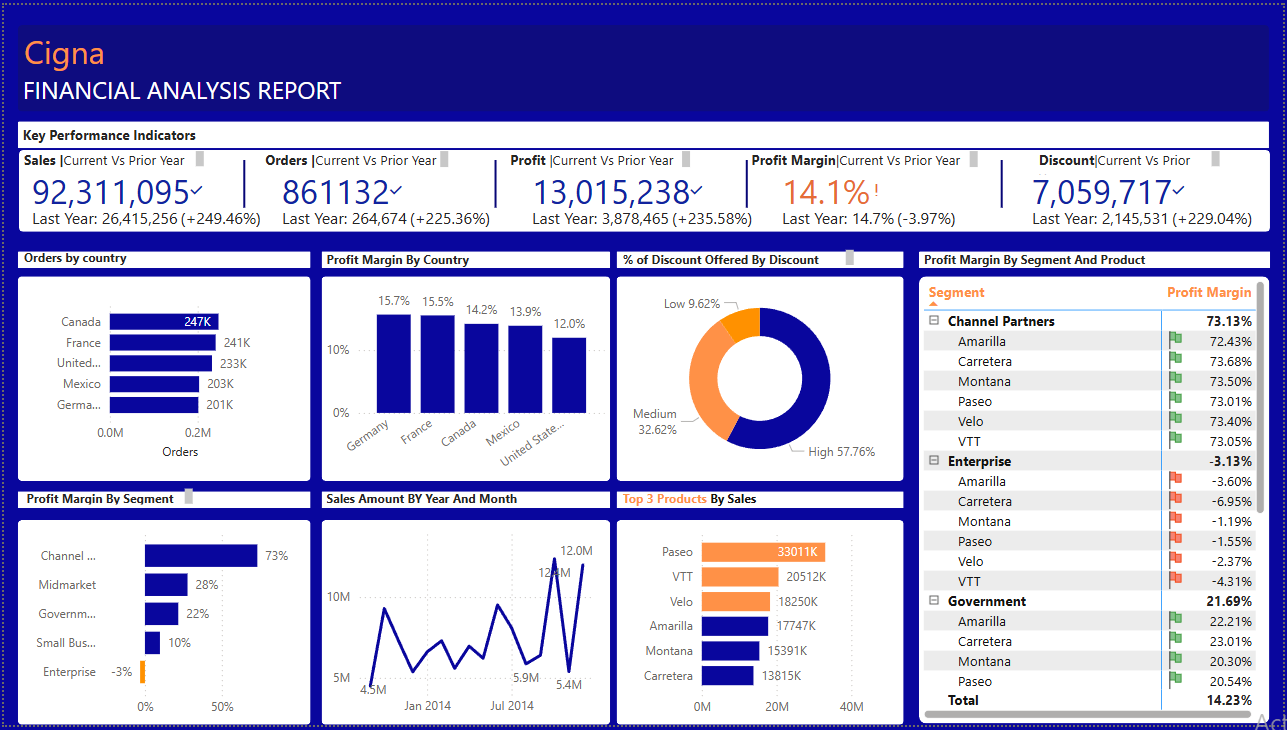

The page's visual inventory and layout, read from the dashboard file:
{"tool":"powerbi","page":{"name":"Page 1","canvas":[1280,720],"ordinal":0},"visuals":[{"type":"shape","box":[14.2,19.9,1251.6,86.8],"z":0},{"type":"shape","box":[14.2,116.6,1251.6,27],"z":1000},{"type":"shape","box":[14.7,145.5,1251,81.9],"z":2000},{"type":"shape","box":[14.2,514.8,293,204.8],"z":3000},{"type":"shape","box":[14.2,271.6,293,204.8],"z":4000},{"type":"shape","box":[317.2,514.8,288.7,204.8],"z":5000},{"type":"shape","box":[613,514.8,287.3,204.8],"z":6000},{"type":"shape","box":[317.2,271.6,288.7,204.8],"z":7000},{"type":"shape","box":[613,271.6,287.3,204.8],"z":8000},{"type":"shape","box":[14.2,246,293,17.1],"z":9000},{"type":"shape","box":[317.2,246,288.7,17.1],"z":10000},{"type":"shape","box":[613,246,287.3,17.1],"z":11000},{"type":"shape","box":[14.2,486.4,293,17.1],"z":12000},{"type":"shape","box":[317.2,486.4,288.7,17.1],"z":13000},{"type":"shape","box":[613,486.4,287.3,17.1],"z":14000},{"type":"shape","box":[914.5,246,351.3,17.1],"z":15000},{"type":"textbox","box":[14.7,19.6,349.7,53.8],"z":16000},{"type":"textbox","box":[14.2,64,362.7,59.7],"z":17000},{"type":"textbox","box":[14.2,116.6,349.9,29.9],"z":18000},{"type":"kpi","fields":{"Indicator":["Analysis.Sales Amount"],"TrendLine":["Date Table.Year"],"Goal":["Analysis.Sales Amount LY"]},"box":[14.7,168.8,250.7,55],"z":19000},{"type":"textbox","box":[14.7,141.8,189.5,25.7],"z":20000},{"type":"kpi","fields":{"Indicator":["Analysis.Orders"],"TrendLine":["Date Table.Year"],"Goal":["Analysis.Orders LY"]},"box":[264.7,168.8,250.7,55],"z":21000},{"type":"kpi","fields":{"TrendLine":["Date Table.Year"],"Indicator":["Analysis.Profit"],"Goal":["Analysis.Profit LY"]},"box":[514.8,168.8,250.7,55],"z":22000},{"type":"kpi","fields":{"TrendLine":["Date Table.Year"],"Indicator":["Analysis.Profit Margin"],"Goal":["Analysis.Profit Margin LY"]},"box":[764.9,168.8,250.7,55],"z":23000},{"type":"kpi","fields":{"TrendLine":["Date Table.Year"],"Indicator":["Analysis.Discount Offered"],"Goal":["Analysis.Discount Offered LY"]},"box":[1015,168.8,250.7,55],"z":24000},{"type":"textbox","box":[255.9,141.8,193.2,26.9],"z":25000},{"type":"textbox","box":[500.7,141.8,189.5,26.9],"z":26000},{"type":"textbox","box":[742,141.8,236,26.9],"z":27000},{"type":"textbox","box":[1029.6,141.8,190.8,33],"z":28000},{"type":"barChart","fields":{"Y":["Analysis.Orders"],"Category":["Financials.Country"]},"box":[34.6,287.1,230.8,171.7],"z":29000},{"type":"columnChart","fields":{"Y":["Analysis.Profit Margin"],"Category":["Financials.Country"]},"box":[317.4,271.2,288.6,204.9],"z":30000},{"type":"donutChart","fields":{"Category":["Financials.Discount Band"],"Y":["Analysis.Discount Offered"]},"box":[617.5,271.2,277,204.9],"z":31000},{"type":"barChart","fields":{"Category":["Financials.Segment"],"Y":["Analysis.Profit Margin"]},"box":[14.4,515.1,292.9,204.9],"z":32000},{"type":"lineChart","fields":{"Category":["Financials.Date"],"Y":["Analysis.Sales Amount"]},"box":[317.9,513.6,288.6,205.4],"z":33000},{"type":"clusteredBarChart","fields":{"Category":["Financials.Product"],"Y":["Analysis.Sales Amount"]},"box":[630.5,515.1,251,204.9],"z":34000},{"type":"textbox","box":[14.4,238.1,178.9,33.2],"z":35000},{"type":"textbox","box":[317.4,239.5,161.6,30.3],"z":36000},{"type":"textbox","box":[613.2,239.5,240.9,27.4],"z":37000},{"type":"textbox","box":[17.3,479,176,26],"z":38000},{"type":"textbox","box":[317.4,479,210.6,30.3],"z":39000},{"type":"textbox","box":[613.2,479,160.1,30.3],"z":40000},{"type":"shape","box":[914.7,271.2,350.6,447.3],"z":41000},{"type":"pivotTable","fields":{"Rows":["Financials.Segment","Financials.Product"],"Values":["Analysis.Profit Margin"]},"box":[914.7,271.5,351,447.6],"z":42000},{"type":"textbox","box":[914.7,239.7,299.6,30.6],"z":43000},{"type":"shape","box":[225,155.3,30.6,47.7],"z":44000},{"type":"shape","box":[476.1,155.3,30.6,47.7],"z":45000},{"type":"shape","box":[727.2,155.3,30.6,47.7],"z":46000},{"type":"shape","box":[978.3,155.3,37.9,47.7],"z":47000}]}

Visuals, with their boxes in screenshot pixels (x1, y1, x2, y2), scaled from the page's 1280x720 canvas onto the 1287x730 screenshot:
shape: 14, 20, 1273, 108
shape: 14, 118, 1273, 146
shape: 15, 148, 1273, 231
shape: 14, 522, 309, 729
shape: 14, 275, 309, 483
shape: 319, 522, 609, 729
shape: 616, 522, 905, 729
shape: 319, 275, 609, 483
shape: 616, 275, 905, 483
shape: 14, 249, 309, 267
shape: 319, 249, 609, 267
shape: 616, 249, 905, 267
shape: 14, 493, 309, 510
shape: 319, 493, 609, 510
shape: 616, 493, 905, 510
shape: 920, 249, 1273, 267
textbox: 15, 20, 366, 74
textbox: 14, 65, 379, 125
textbox: 14, 118, 366, 149
kpi - Analysis.Sales Amount x Date Table.Year: 15, 171, 267, 227
textbox: 15, 144, 205, 170
kpi - Analysis.Orders x Date Table.Year: 266, 171, 518, 227
kpi - Date Table.Year x Analysis.Profit: 518, 171, 770, 227
kpi - Date Table.Year x Analysis.Profit Margin: 769, 171, 1021, 227
kpi - Date Table.Year x Analysis.Discount Offered: 1021, 171, 1273, 227
textbox: 257, 144, 452, 171
textbox: 503, 144, 694, 171
textbox: 746, 144, 983, 171
textbox: 1035, 144, 1227, 177
barChart - Analysis.Orders x Financials.Country: 35, 291, 267, 465
columnChart - Analysis.Profit Margin x Financials.Country: 319, 275, 609, 483
donutChart - Financials.Discount Band x Analysis.Discount Offered: 621, 275, 899, 483
barChart - Financials.Segment x Analysis.Profit Margin: 14, 522, 309, 729
lineChart - Financials.Date x Analysis.Sales Amount: 320, 521, 610, 729
clusteredBarChart - Financials.Product x Analysis.Sales Amount: 634, 522, 886, 729
textbox: 14, 241, 194, 275
textbox: 319, 243, 482, 274
textbox: 617, 243, 859, 271
textbox: 17, 486, 194, 512
textbox: 319, 486, 531, 516
textbox: 617, 486, 778, 516
shape: 920, 275, 1272, 728
pivotTable - Financials.Segment x Financials.Product: 920, 275, 1273, 729
textbox: 920, 243, 1221, 274
shape: 226, 157, 257, 206
shape: 479, 157, 509, 206
shape: 731, 157, 762, 206
shape: 984, 157, 1022, 206
